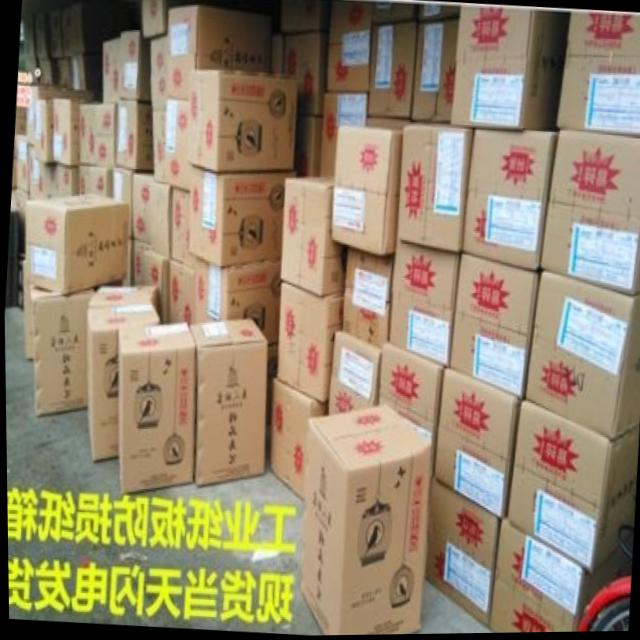box: (298, 404, 430, 636), (505, 401, 638, 574), (524, 271, 640, 440), (539, 130, 640, 298), (461, 129, 557, 273), (117, 321, 195, 493), (448, 253, 539, 400), (450, 6, 556, 131), (432, 368, 518, 521), (188, 320, 265, 487), (85, 300, 160, 462), (422, 477, 497, 628), (187, 70, 297, 172), (186, 165, 297, 266), (487, 517, 582, 634), (555, 12, 640, 138), (25, 194, 128, 293), (166, 6, 272, 101), (396, 124, 471, 252), (329, 126, 402, 257), (387, 240, 457, 368), (376, 343, 442, 478), (28, 283, 93, 417), (189, 256, 284, 346), (276, 282, 343, 403), (279, 177, 346, 296), (268, 379, 328, 502), (341, 248, 394, 351), (410, 19, 459, 123), (367, 23, 417, 118), (327, 331, 382, 414), (318, 93, 368, 179), (327, 4, 373, 92), (282, 32, 328, 117), (132, 174, 171, 259), (131, 237, 169, 323), (114, 100, 152, 171), (78, 103, 115, 167), (118, 31, 150, 103), (163, 99, 188, 191), (170, 186, 194, 270), (86, 285, 157, 310), (52, 99, 78, 165), (293, 115, 320, 177), (167, 259, 192, 325), (27, 145, 55, 200), (111, 166, 132, 238), (150, 34, 167, 111), (76, 165, 111, 200), (34, 100, 53, 162), (103, 38, 121, 103), (15, 135, 33, 194), (151, 110, 165, 183), (142, 0, 165, 38), (55, 164, 77, 195)
